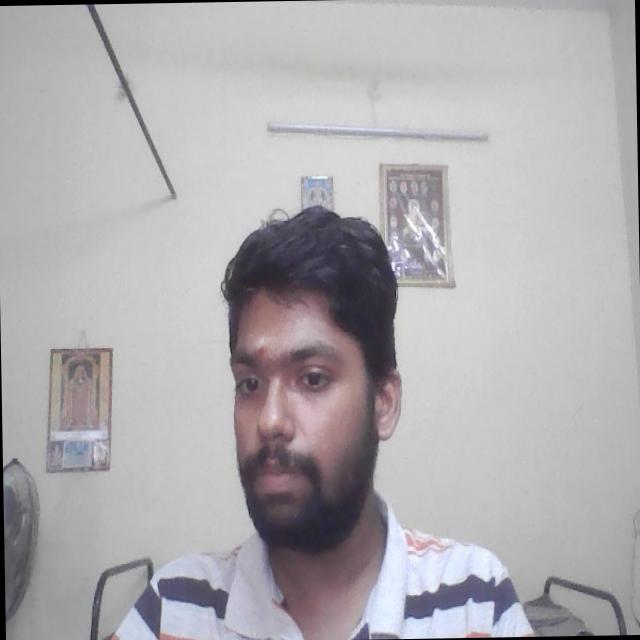Focused: (230, 311, 366, 513)
